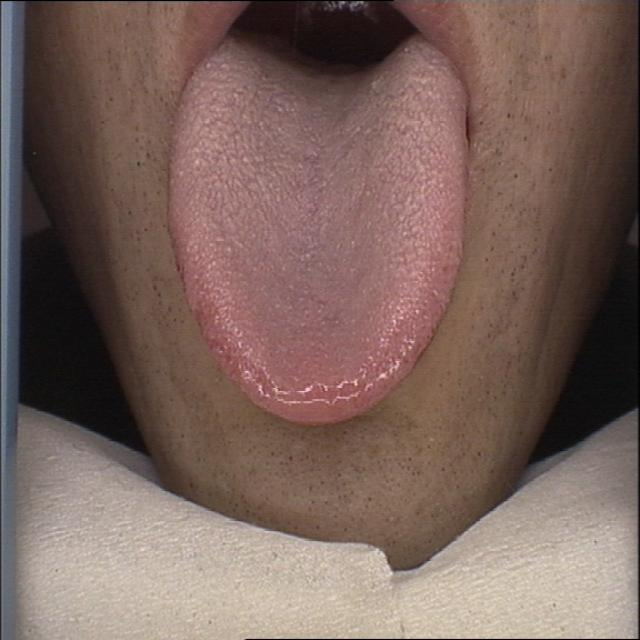tongue: (161, 32, 472, 428)
